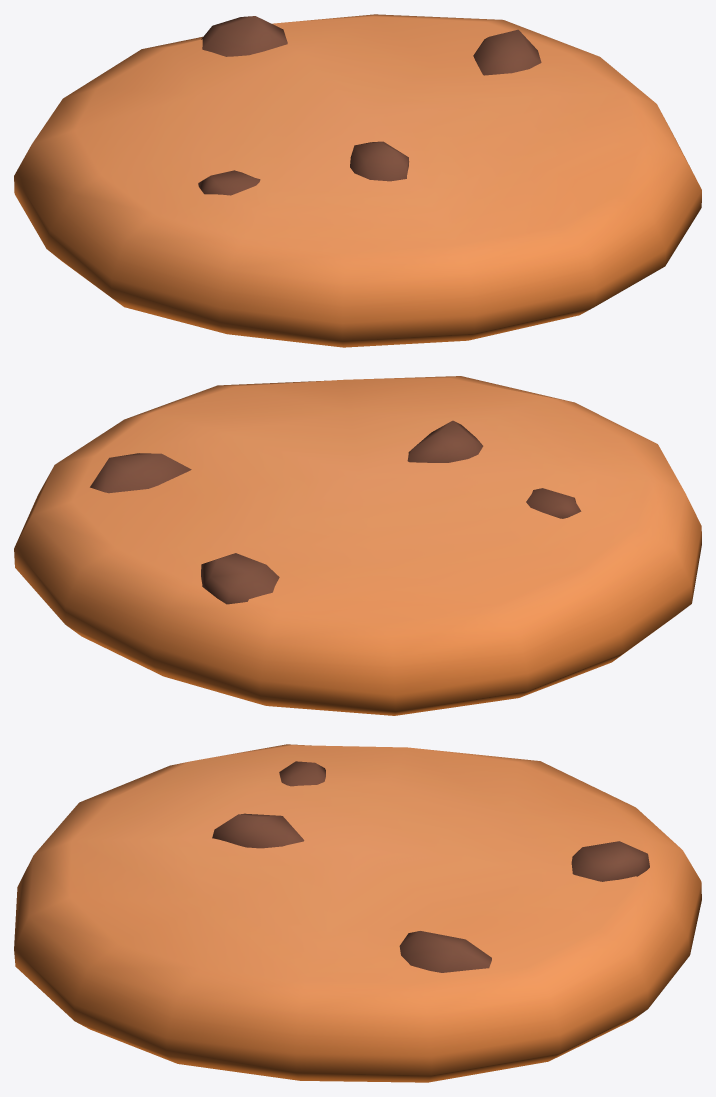
File: Cookie_13.glb
3 renders of one model, top to bottom at view 1: azimuth 30°, elevation 25°; view 2: azimuth 150°, elevation 25°; view 3: azimuth 270°, elevation 25°, orthographic. The views are drawn at different scales.
Parts seen in each view (by area): view 1: Cookie_13; view 2: Cookie_13; view 3: Cookie_13.
Boxes of the visible parts, box(x1,y1,x2,y2) form: Cookie_13: box(14, 14, 701, 347); Cookie_13: box(14, 376, 701, 715); Cookie_13: box(14, 744, 701, 1082).
Bounding box in the file's own units: 3.54 × 0.7057 × 3.58.
Materials: 1 (1 with a texture image).
